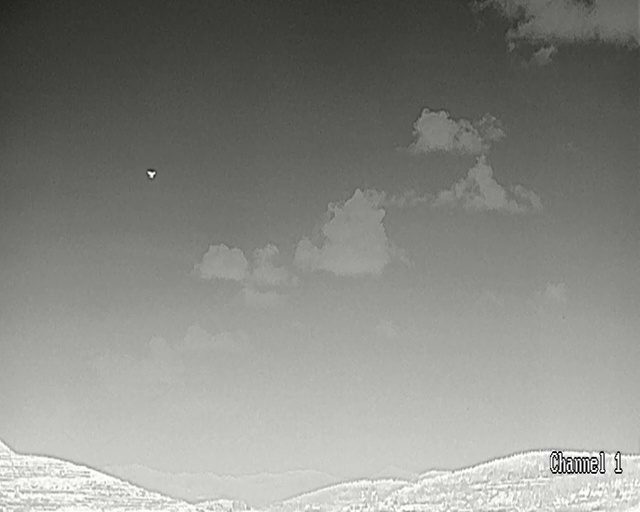uav: (147, 170, 155, 177)
